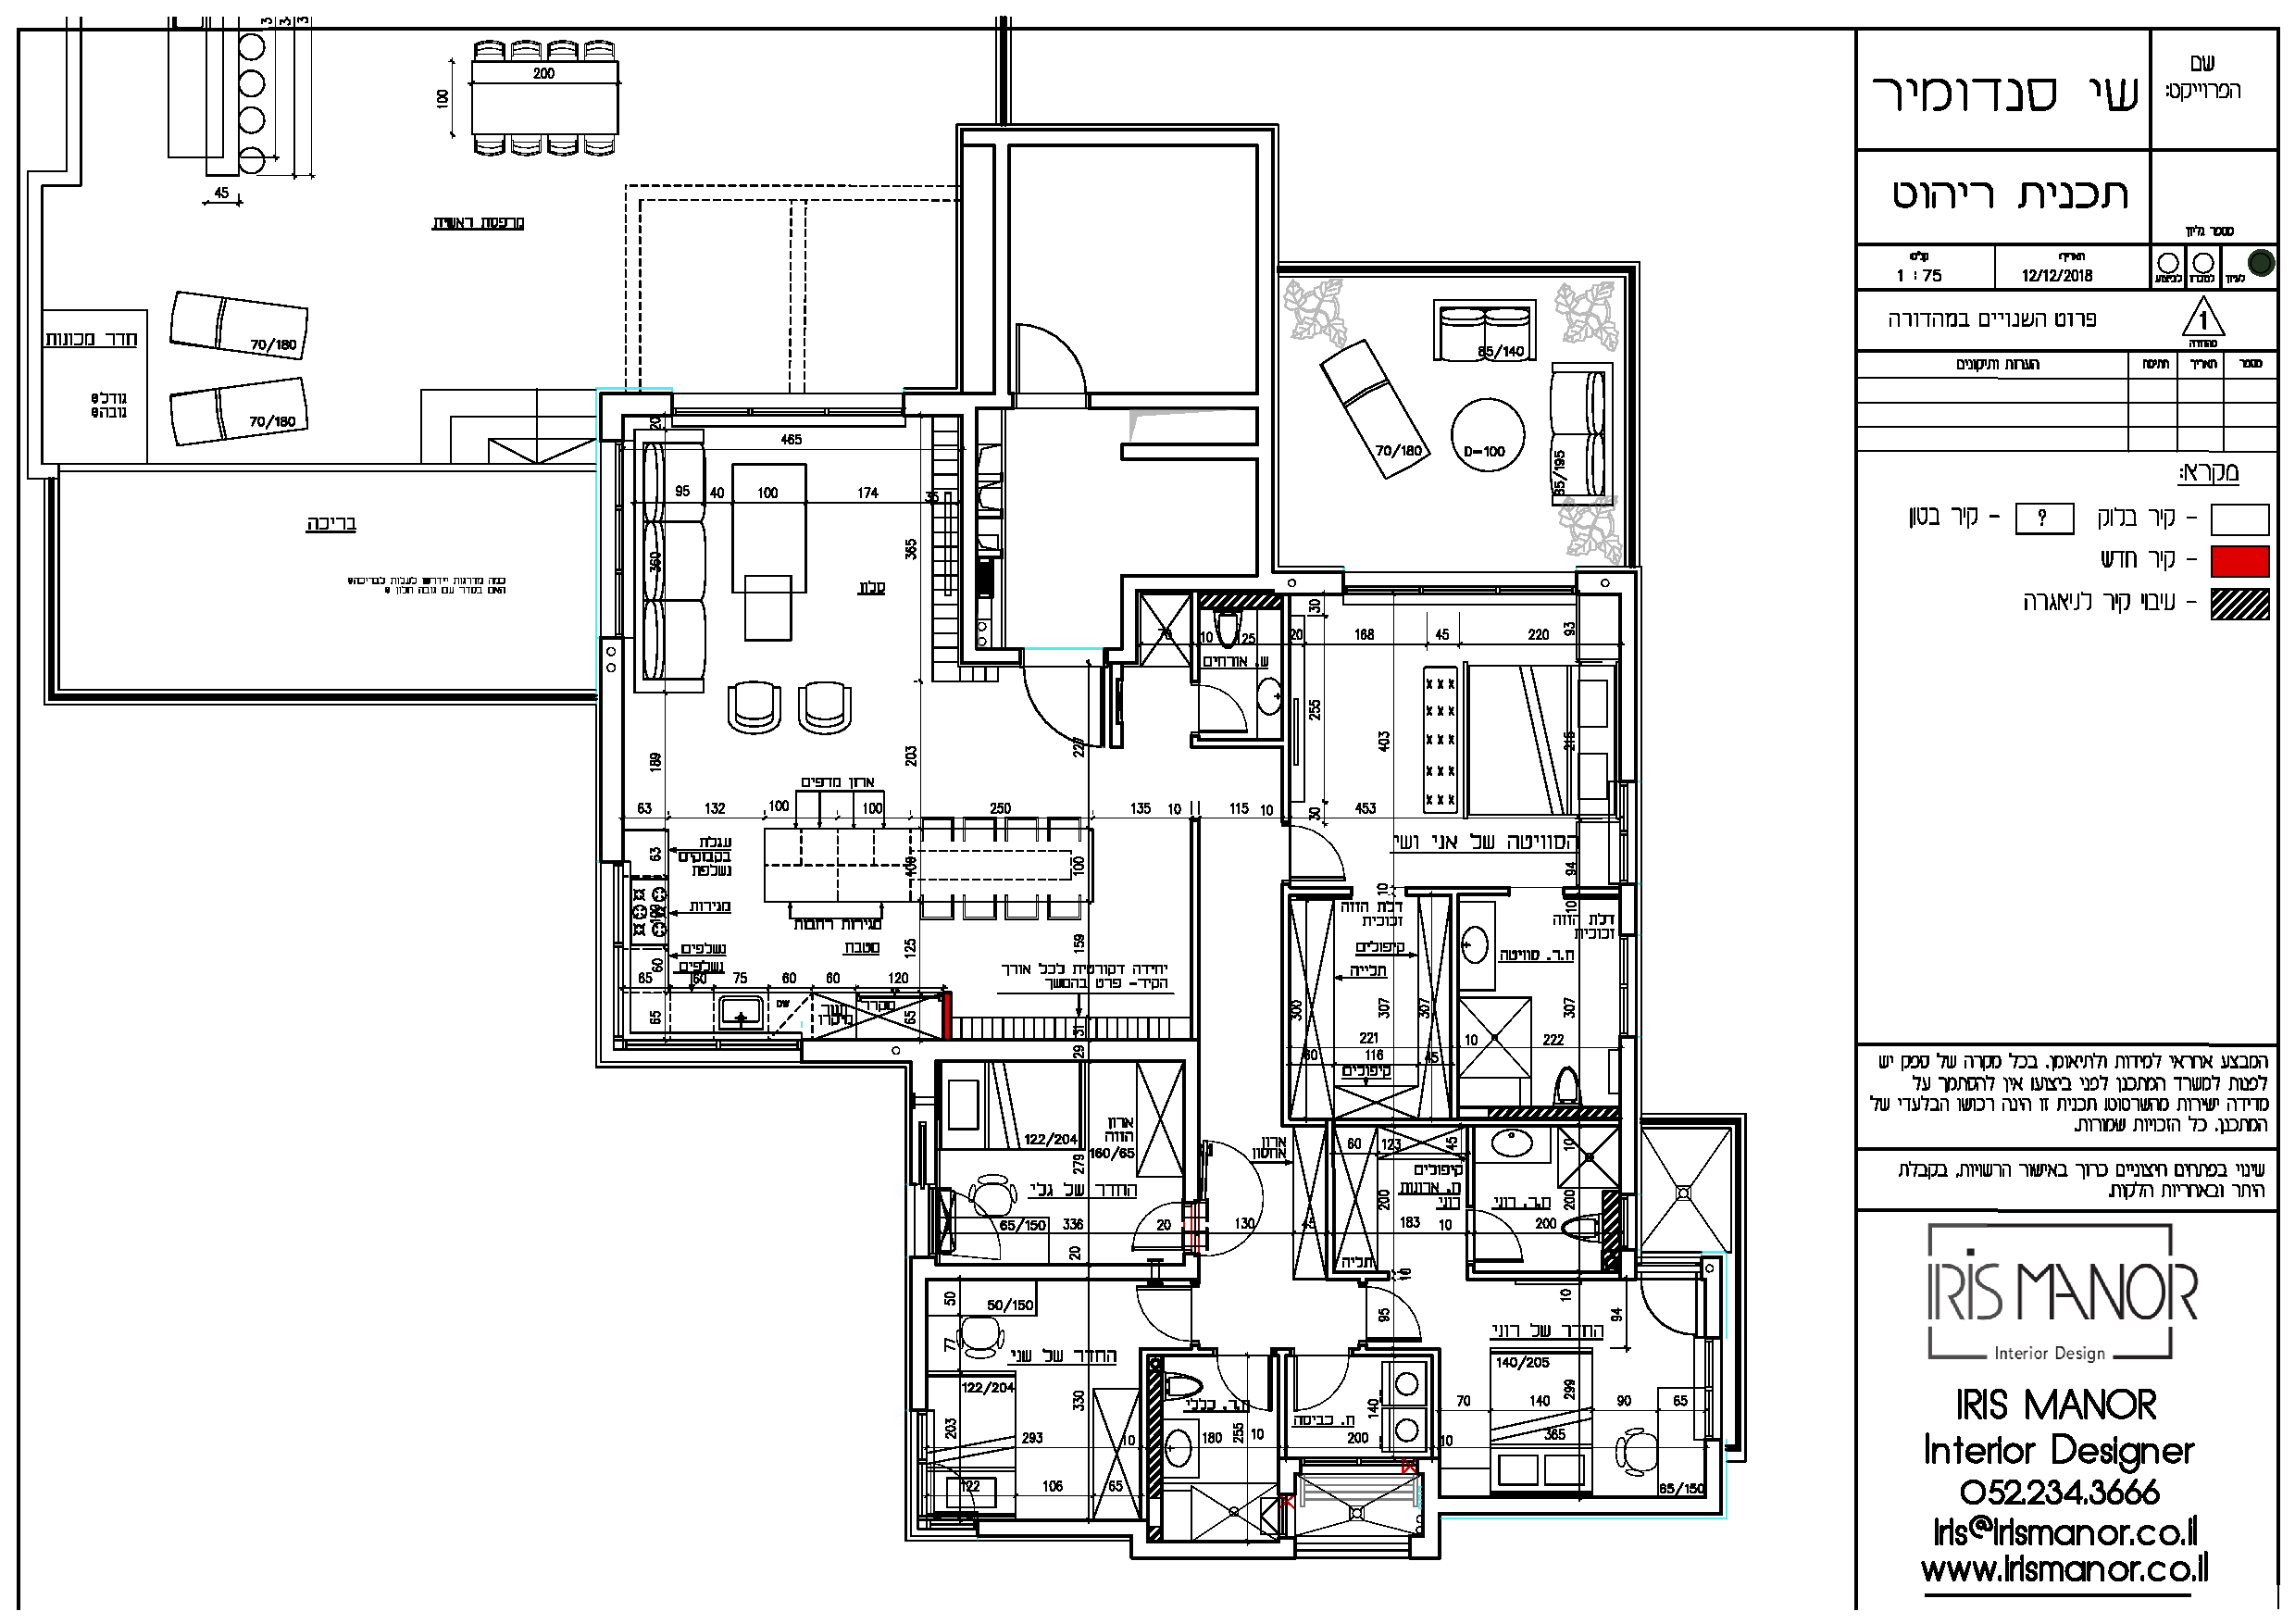door: (1014, 671, 1107, 759), (1012, 315, 1090, 381), (1290, 817, 1355, 882), (1476, 1207, 1539, 1262), (1132, 1285, 1186, 1346), (1292, 1359, 1353, 1413), (1112, 1199, 1174, 1253), (1371, 1290, 1432, 1345), (1200, 1135, 1262, 1190), (1200, 673, 1253, 735), (1211, 1360, 1274, 1410)
